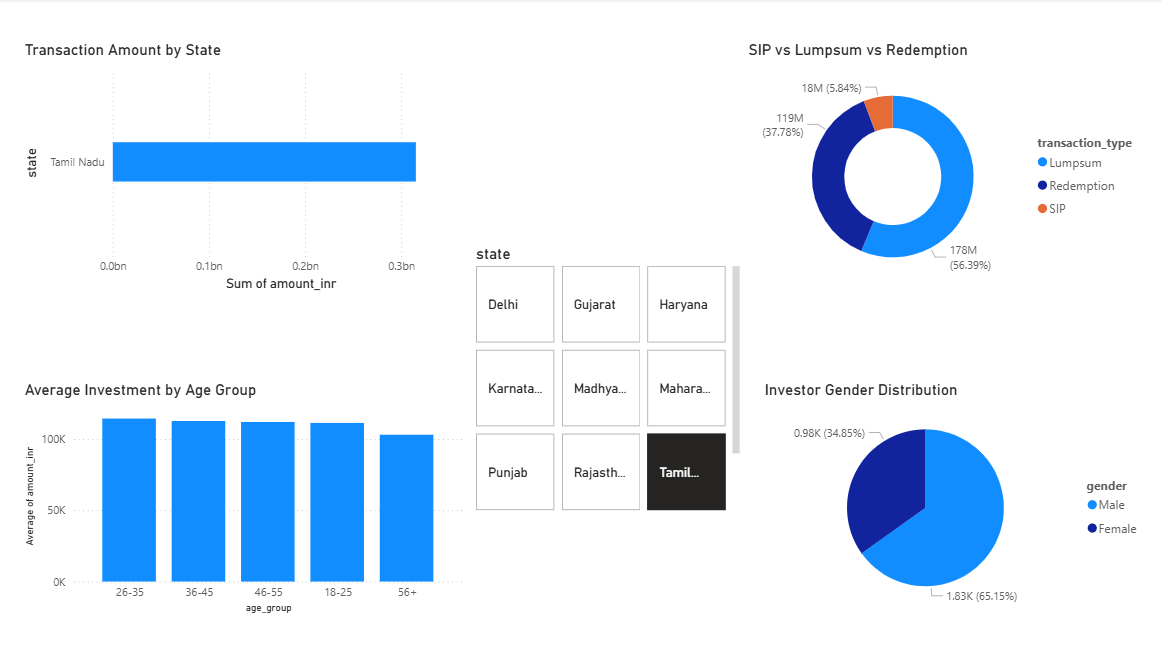

Layout of this report page (visuals, bound fields, positions):
{"tool":"powerbi","page":{"name":"Investor Analytics","canvas":[1280,720],"ordinal":2},"visuals":[{"type":"clusteredBarChart","title":"Transaction Amount by State","fields":{"Category":["08_investor_transactions.state"],"Y":["Sum(08_investor_transactions.amount_inr)"]},"box":[23.3,46.7,491.3,279.9],"z":0},{"type":"donutChart","title":"SIP vs Lumpsum vs Redemption","fields":{"Category":["08_investor_transactions.transaction_type"],"Y":["Sum(08_investor_transactions.amount_inr)"]},"box":[817.8,46.7,446,279.9],"z":1000},{"type":"clusteredColumnChart","title":"Average Investment by Age Group","fields":{"Category":["08_investor_transactions.age_group"],"Y":["Avg(08_investor_transactions.amount_inr)"]},"box":[23.3,419.9,491.3,260.7],"z":2000},{"type":"pieChart","title":"Investor Gender Distribution","fields":{"Category":["08_investor_transactions.gender"],"Y":["CountNonNull(08_investor_transactions.investor_id)"]},"box":[835.7,419.9,428.1,260.7],"z":3000},{"type":"advancedSlicerVisual","fields":{"Values":["08_investor_transactions.state"]},"box":[518.7,270.3,299.1,299.1],"z":4000}]}

Visuals, with their boxes in screenshot pixels (x1, y1, x2, y2), scaled from the page's 1280x720 canvas onto the 1162x652 screenshot:
"Transaction Amount by State" clusteredBarChart: <box>21,42,467,296</box>
"SIP vs Lumpsum vs Redemption" donutChart: <box>742,42,1147,296</box>
"Average Investment by Age Group" clusteredColumnChart: <box>21,380,467,616</box>
"Investor Gender Distribution" pieChart: <box>759,380,1147,616</box>
advancedSlicerVisual - 08_investor_transactions.state: <box>471,245,742,516</box>
